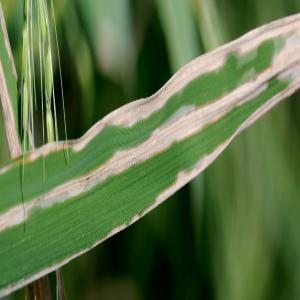Hawar Daun: (171, 96, 230, 136), (53, 170, 92, 206), (248, 15, 288, 50), (101, 103, 140, 133), (173, 158, 203, 192)
